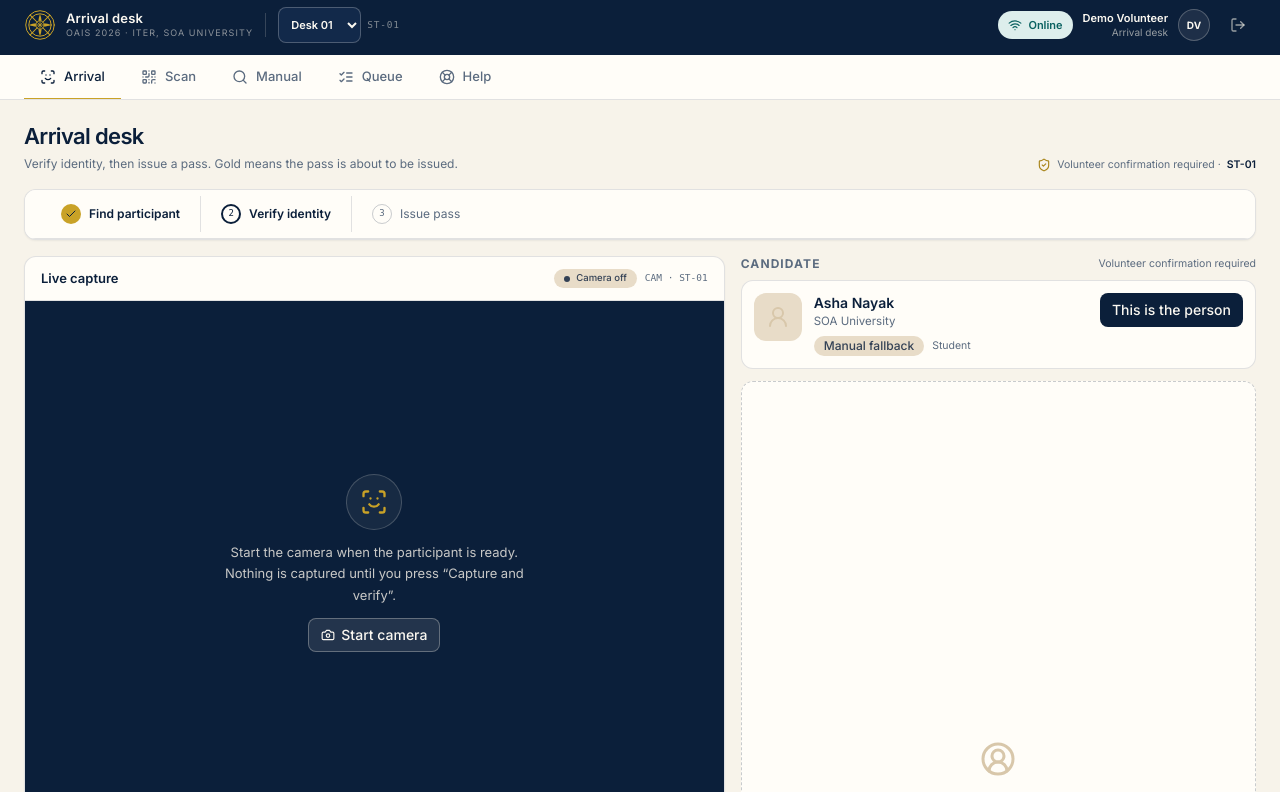
it: Arrival desk (§7.5) › shows "Waiting for backend" instead of inventing an issue endpoint
Expected: the text "Asha Nayak" is shown, 814,294 -> 894,311
Click the button "This is the person" at (1172, 310), box 1100,293 -> 1243,327
(page scrolled)
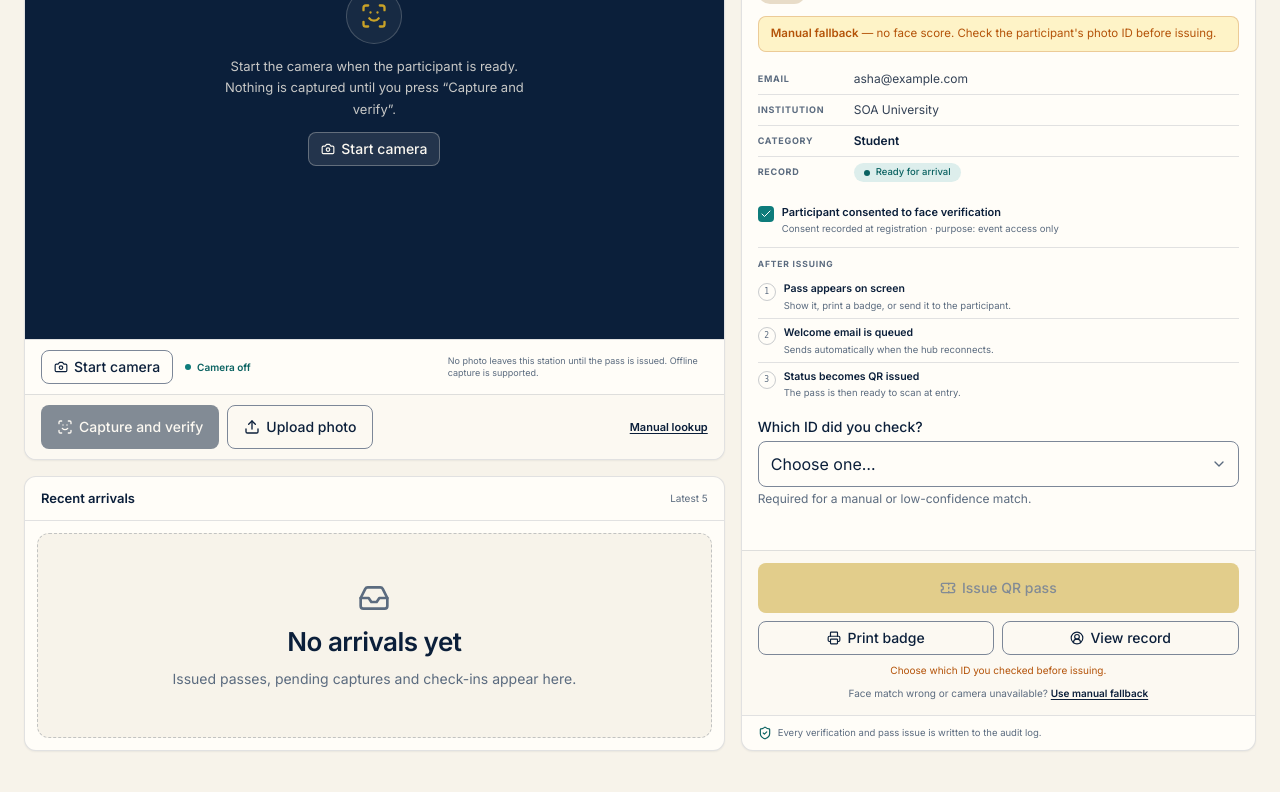
Select "Photo ID checked" in the dropdown labelled "Which ID did you check?" at (998, 464), box 758,441 -> 1239,487
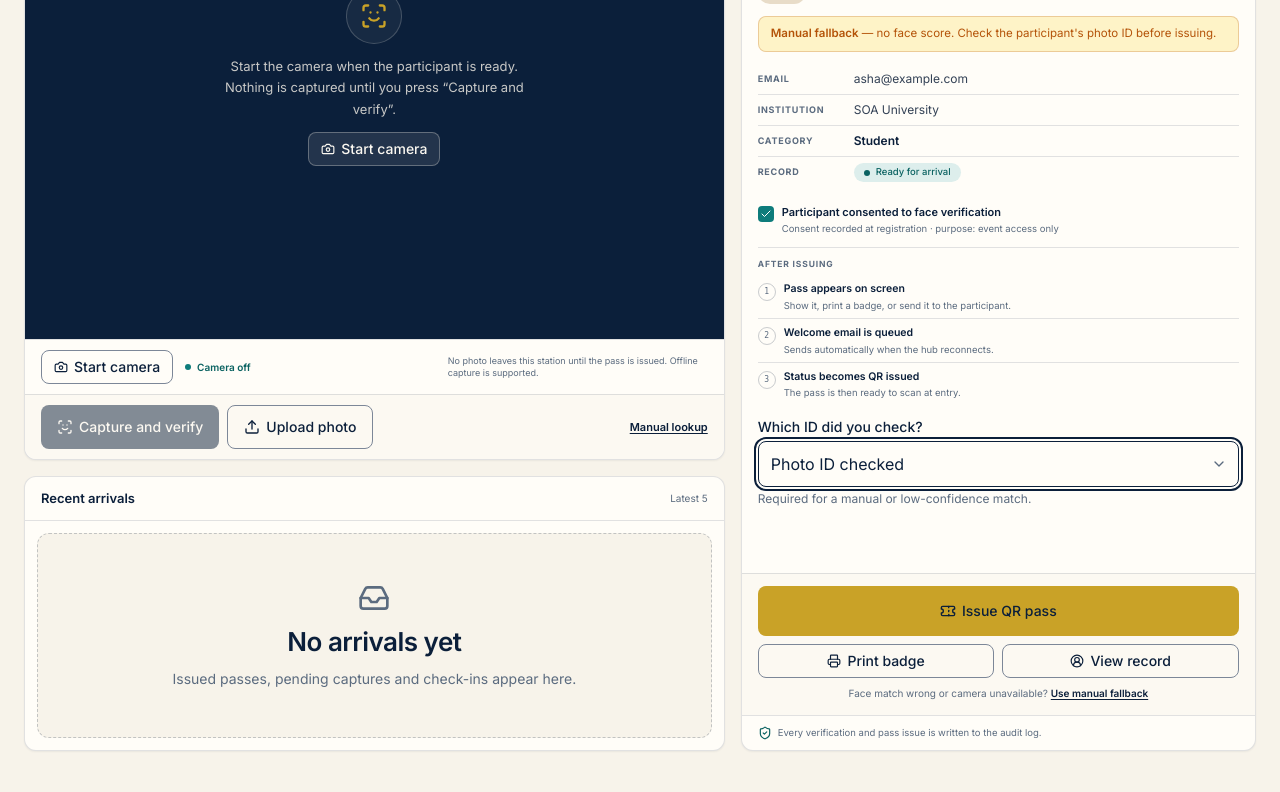
Click the button "Issue QR pass" at (998, 611), box 758,586 -> 1239,636
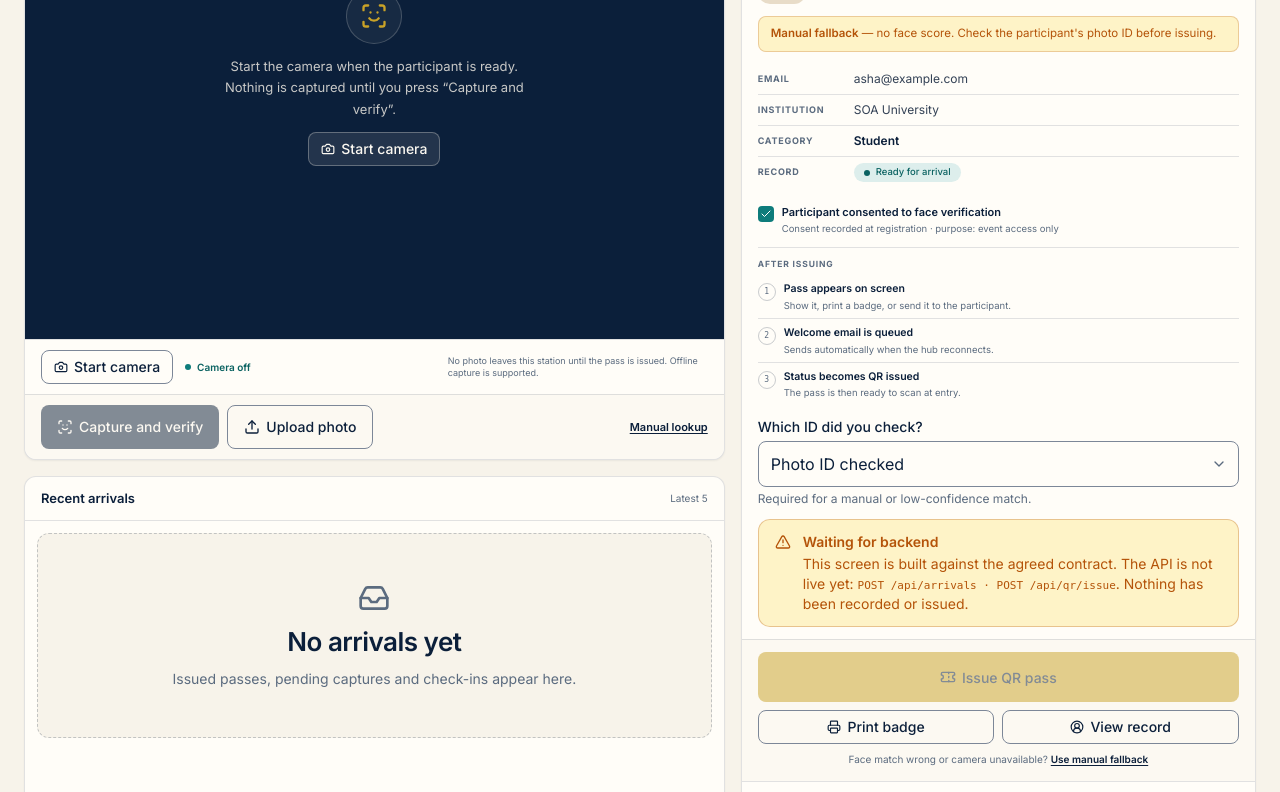
Expected: the text "Waiting for backend" is shown, 803,533 -> 938,550
Expected: the text "POST /api/arrivals · POST /api/qr/issue" is shown, 858,579 -> 1116,592
